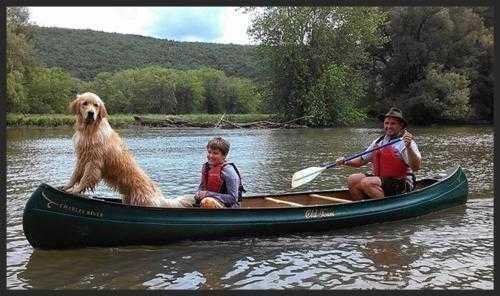kayak: (28, 175, 473, 246)
